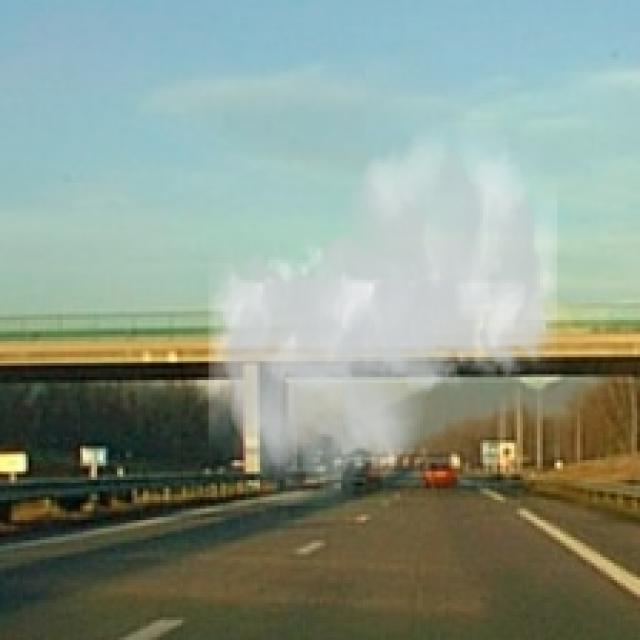smoke: (209, 123, 557, 506)
